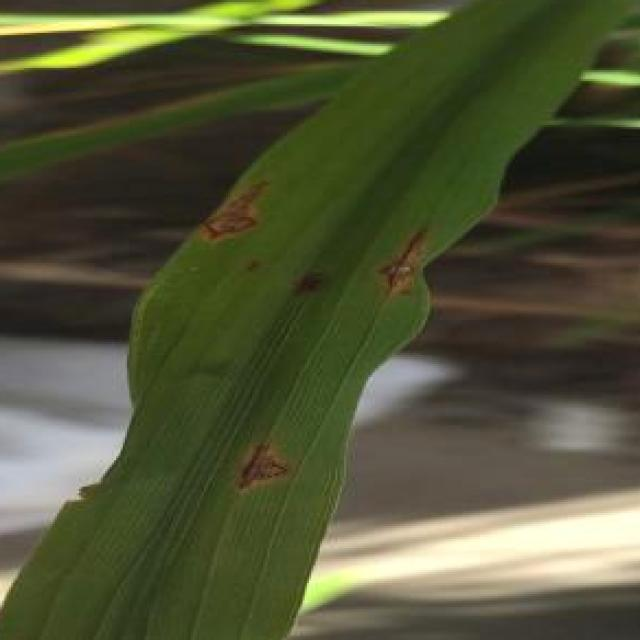Leaf_Blast: (169, 160, 307, 263), (329, 199, 423, 307), (215, 421, 307, 515)
